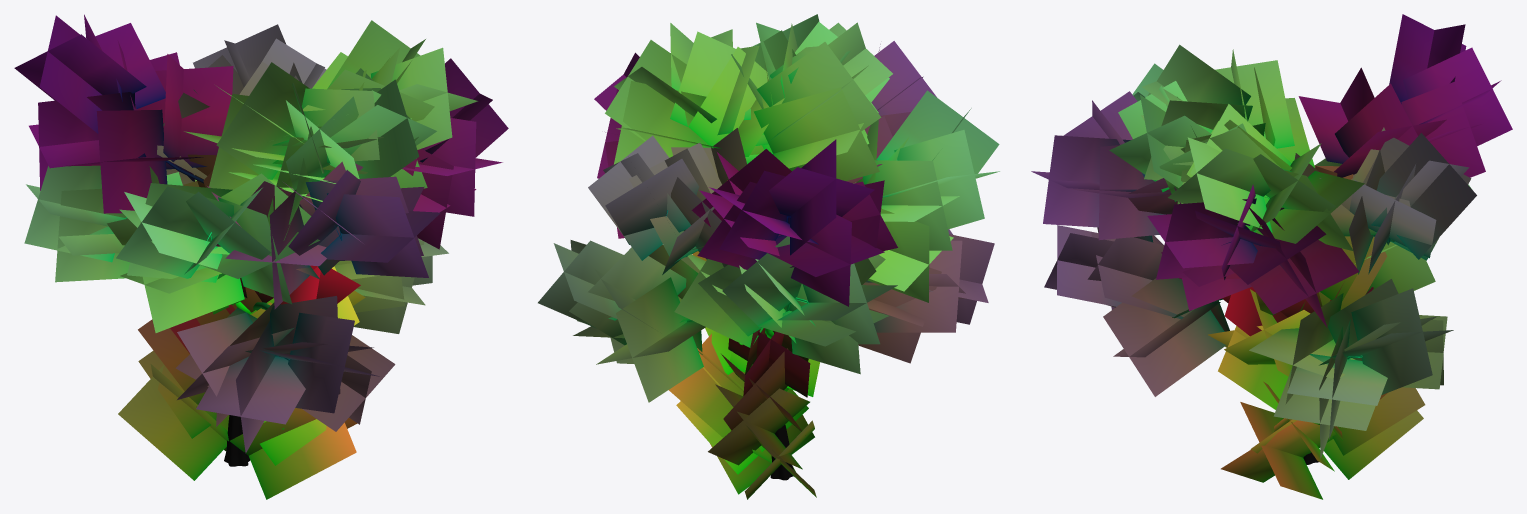
Rendered from URP_P3_Tree_10_LOD_0.fbx.
3 renders of one model, left to right at view 1: azimuth 30°, elevation 25°; view 2: azimuth 150°, elevation 25°; view 3: azimuth 270°, elevation 25°, orthographic. The views are drawn at different scales.
Visible parts, largest first — view 1: Tree_10_LOD_0; view 2: Tree_10_LOD_0; view 3: Tree_10_LOD_0.
Part boxes in pixels (box(x1,y1,x2,y2)): Tree_10_LOD_0: box(14, 14, 508, 499); Tree_10_LOD_0: box(538, 14, 999, 499); Tree_10_LOD_0: box(1031, 14, 1512, 499).
Bounding box in the file's own units: 489 × 541 × 547.
